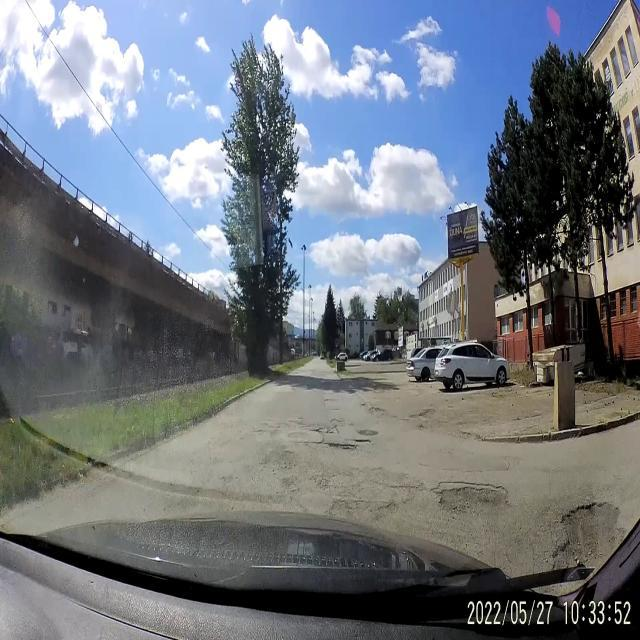Manhole: (358, 424, 380, 438), (288, 428, 310, 440)
Pothole: (550, 490, 620, 564), (430, 480, 508, 513), (323, 442, 358, 455), (312, 426, 339, 434), (328, 417, 346, 426)
